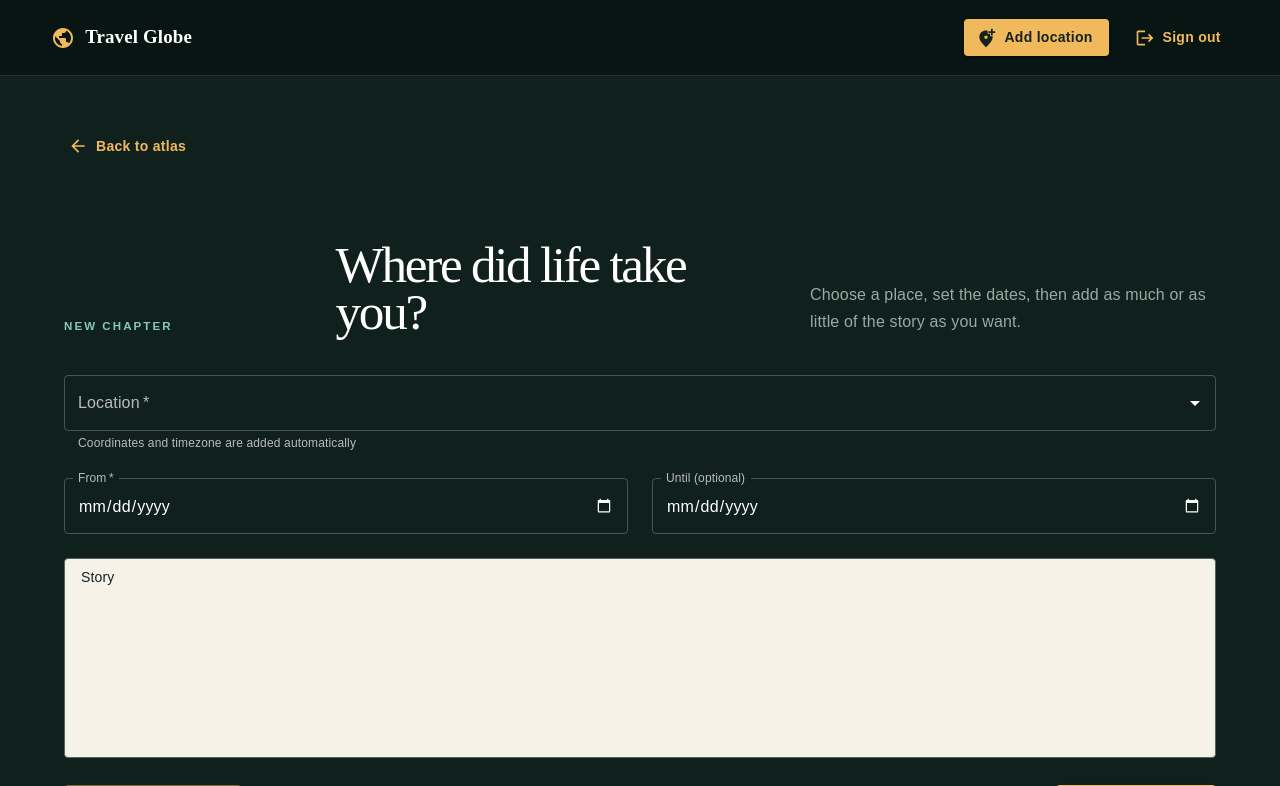
failed sign out keeps the traveler signed in and offers retry
The image size is (1280, 786).
Click the button "Sign out" at (1180,38), box [1131,19,1229,56]
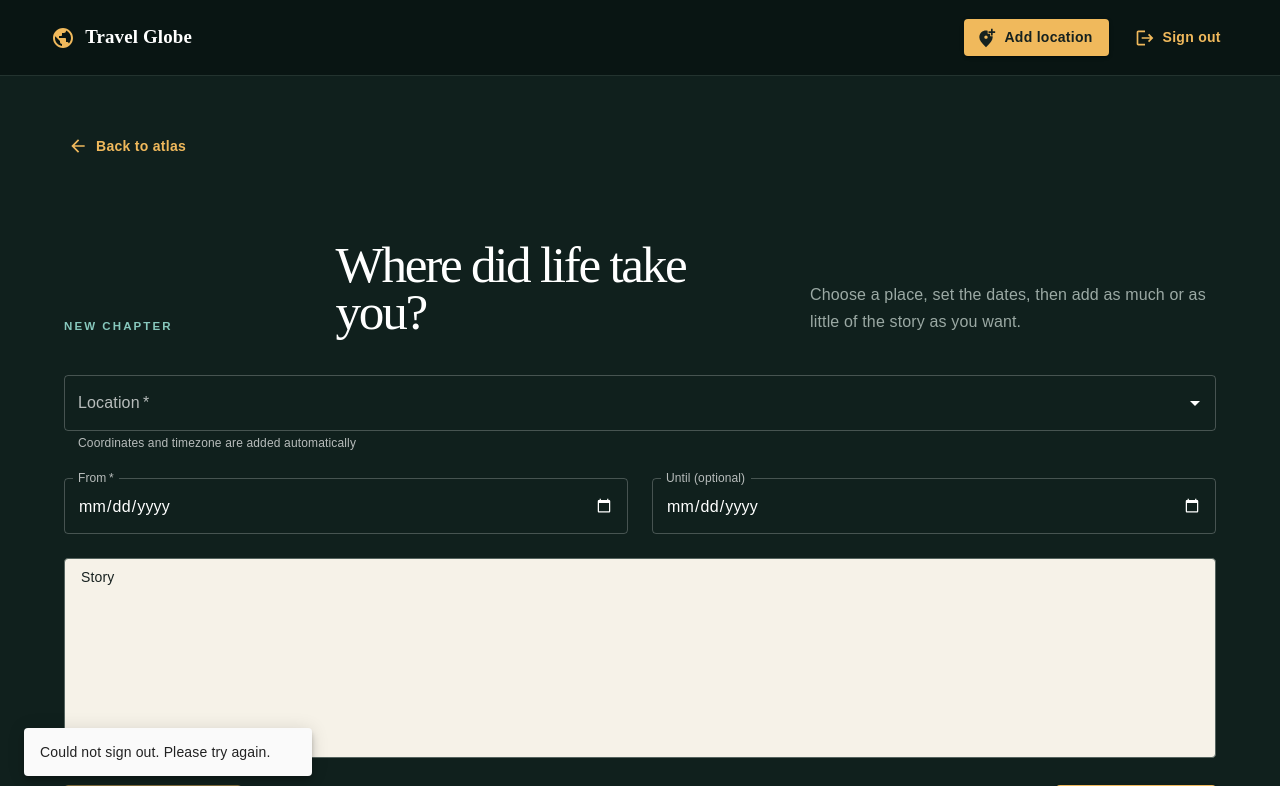
Expected: the text "Could not sign out. Please try again." is shown, [40,744,270,760]
